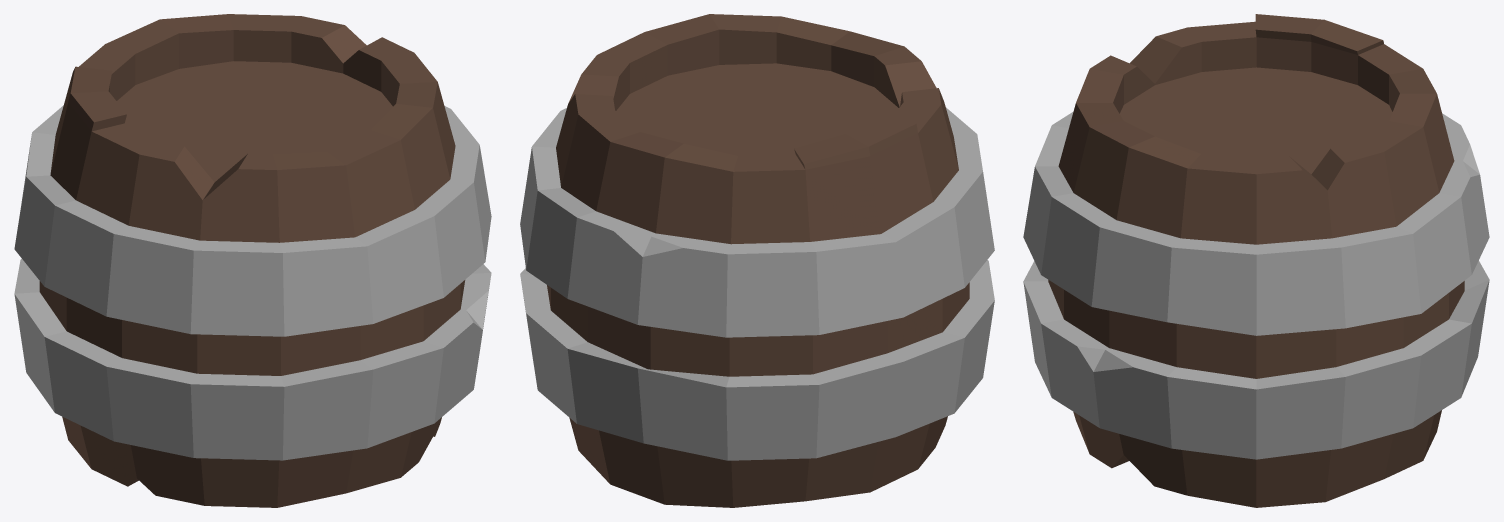
Rendered from lowPolyBarrel.fbx.
3 views of the same model, side by side, from view 1: azimuth 30°, elevation 25°; view 2: azimuth 150°, elevation 25°; view 3: azimuth 270°, elevation 25° (orthographic). The views are drawn at different scales.
Visible parts, largest first — view 1: Barrel; view 2: Barrel; view 3: Barrel.
Boxes of the visible parts, <box> form: Barrel: <box>14,14,491,507</box>; Barrel: <box>520,14,994,507</box>; Barrel: <box>1023,14,1489,507</box>.
Bounding box in the file's own units: 258 × 209 × 258.
